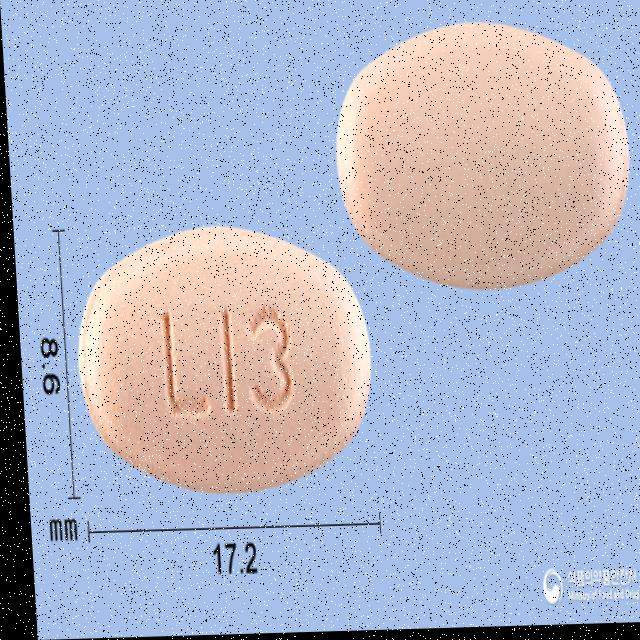Levoable: (68, 223, 373, 497)
